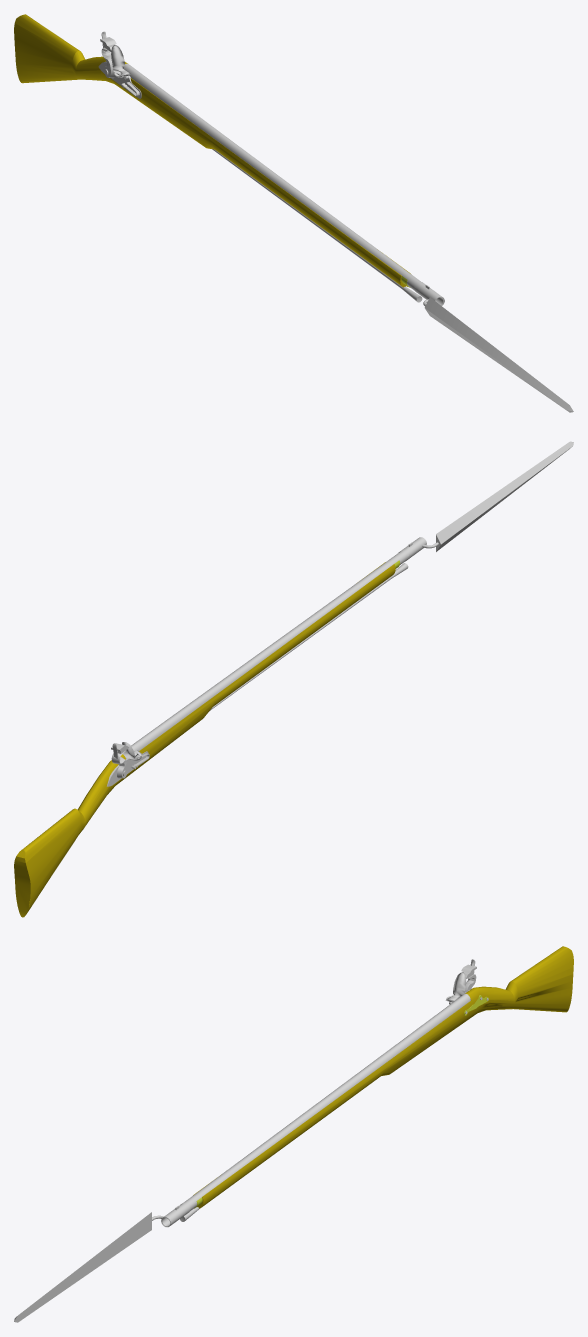
Rendered from musket.fbx.
3 views of the same model, one above another, from view 1: azimuth 30°, elevation 25°; view 2: azimuth 150°, elevation 25°; view 3: azimuth 330°, elevation 25° (orthographic). The views are drawn at different scales.
Visible parts, largest first — view 1: stock, ramer; view 2: stock, ramer; view 3: stock.
Part boxes in pixels (box(x1,y1,x2,y2)): stock: box(14, 14, 573, 412); ramer: box(212, 149, 422, 302); stock: box(14, 441, 573, 917); ramer: box(210, 563, 408, 710); stock: box(14, 946, 573, 1322).
Size of the model in its own units: 3.05 by 13.47 by 116.
